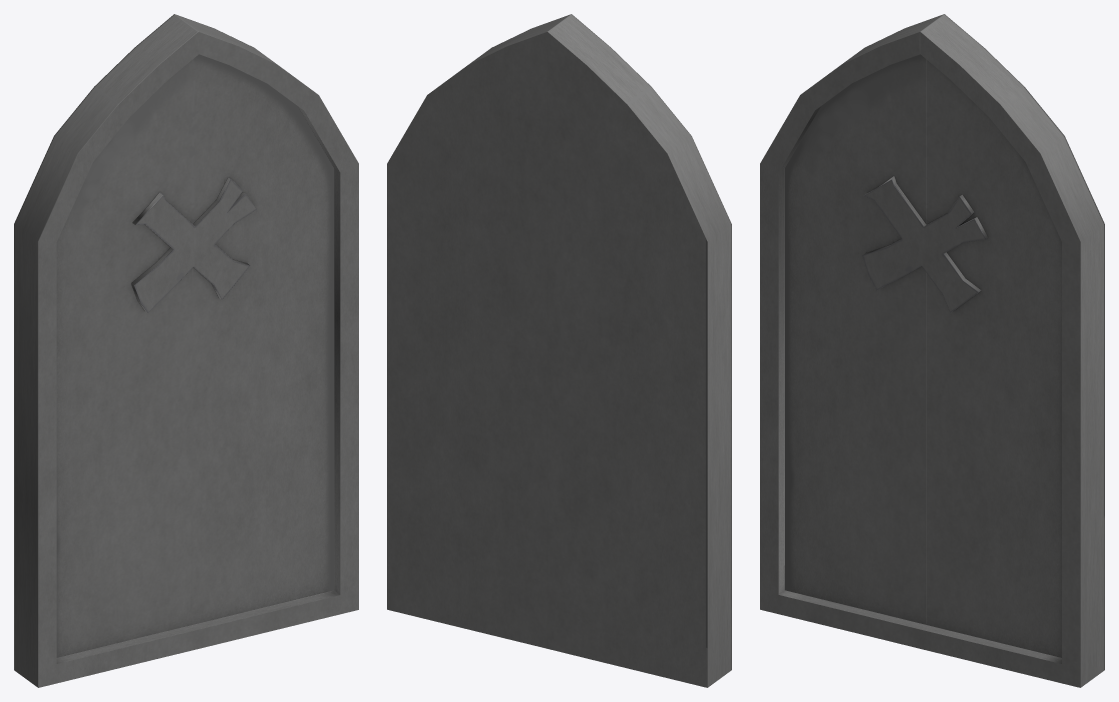
Rendered from Lapide.gltf.
The picture shows the model from 3 angles, left to right: view 1: azimuth 30°, elevation 25°; view 2: azimuth 150°, elevation 25°; view 3: azimuth 330°, elevation 25°; orthographic projection.
Parts seen in each view (by area): view 1: Lápide; view 2: Lápide; view 3: Lápide.
Part boxes in pixels (x1,y1,x2,y2): Lápide: (14,14,358,687); Lápide: (387,14,731,687); Lápide: (760,14,1104,687).
Bounding box in the file's own units: 1.32 × 2.42 × 0.1743.
1 material, 1 textured.
